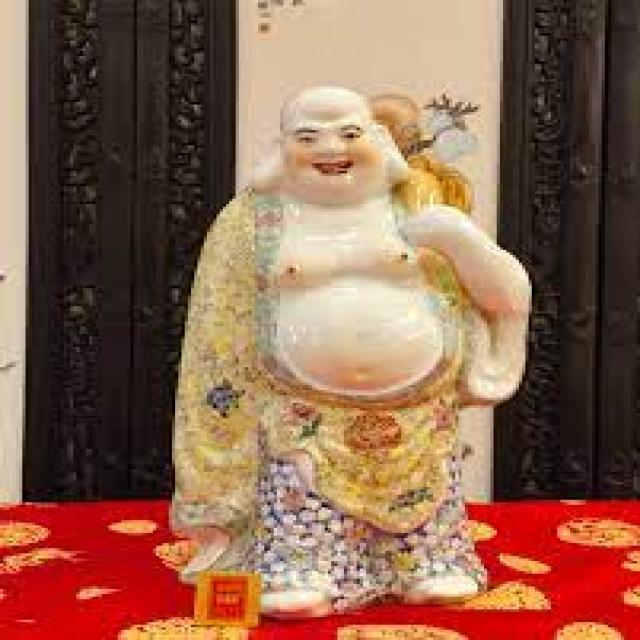Smiling Buddha: (186, 83, 488, 557)
